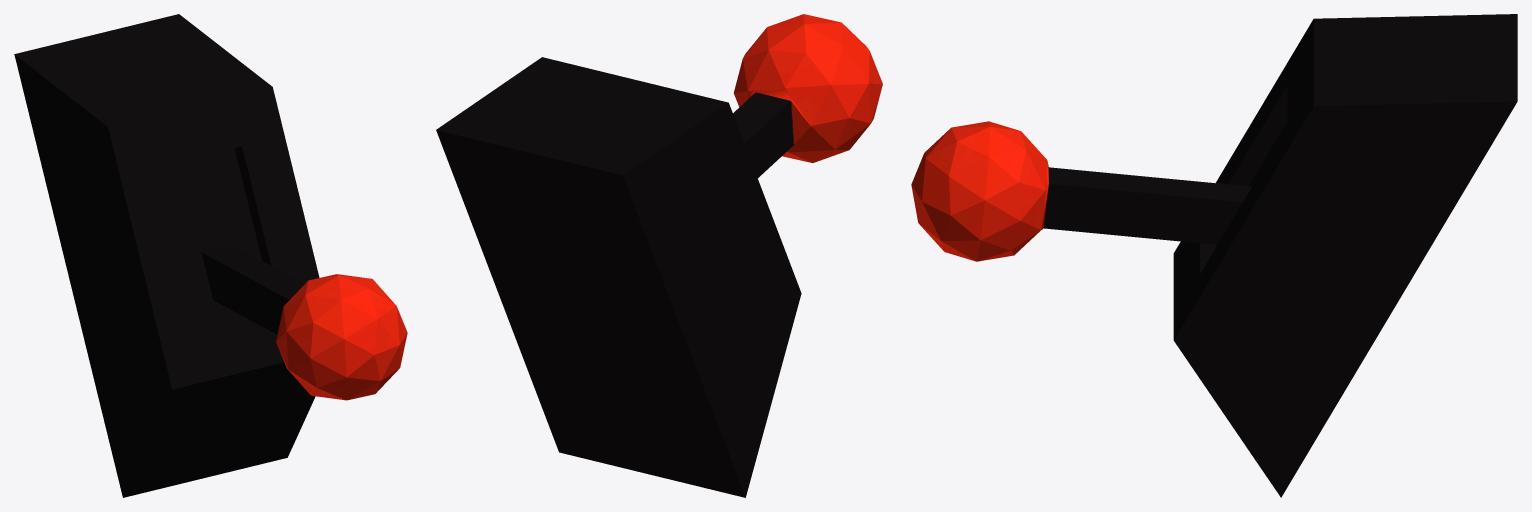
Rendered from palanca4.obj.
3 renders of one model, left to right at view 1: azimuth 30°, elevation 25°; view 2: azimuth 150°, elevation 25°; view 3: azimuth 270°, elevation 25°, orthographic. The views are drawn at different scales.
Parts seen in each view (by area): view 1: palanca4; view 2: palanca4; view 3: palanca4.
Part boxes in pixels (x1=…): palanca4: x1=14, y1=14, x2=407, y2=497; palanca4: x1=436, y1=14, x2=882, y2=497; palanca4: x1=911, y1=14, x2=1517, y2=497.
Bounding box in the file's own units: 0.1682 × 0.3554 × 0.4926.
2 materials, 1 textured.
